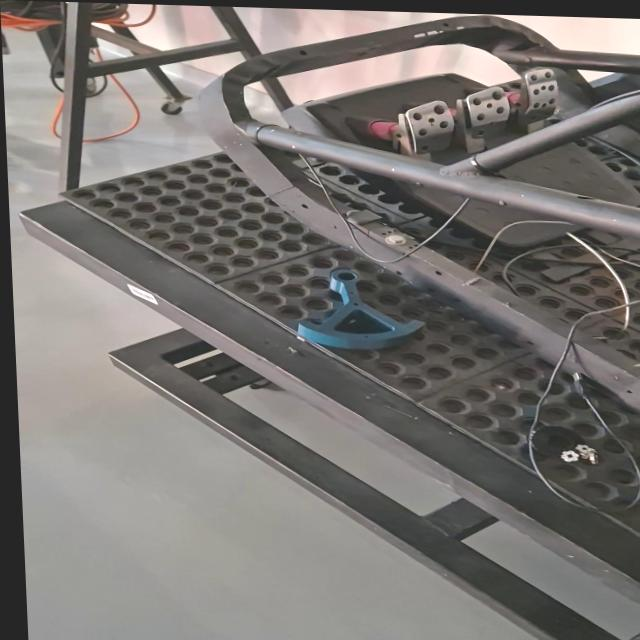haptic: (292, 267, 428, 353)
